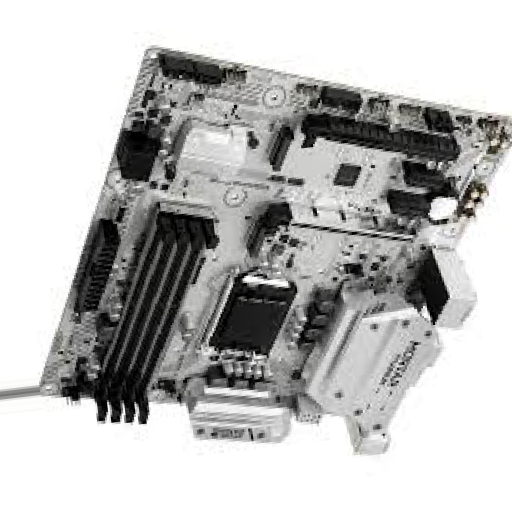CPU: (199, 264, 298, 360)
GPU: (303, 115, 461, 162), (267, 205, 416, 244)
MOTHERBOARD: (49, 47, 512, 422)
RAM: (95, 206, 219, 423)
SSD: (271, 127, 292, 174), (247, 220, 270, 258)
